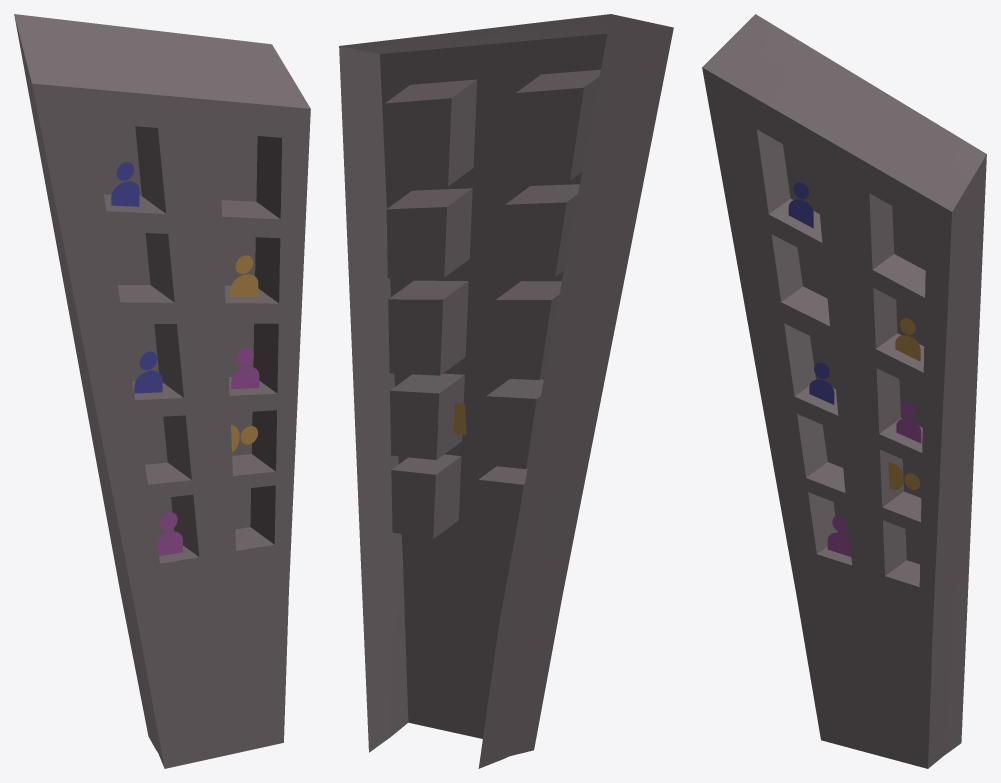
Rendered from Building1.fbx.
The picture shows the model from 3 angles, left to right: view 1: azimuth 30°, elevation 25°; view 2: azimuth 150°, elevation 25°; view 3: azimuth 330°, elevation 25°; orthographic projection. The views are drawn at different scales.
Visible parts, largest first — view 1: Building1, Person6, Person8, Person7, Person5, Person3; view 2: Building1; view 3: Building1, Person6, Person8, Person7, Person5, Person3, Person4.
Part boxes in pixels (bbox=[...]): Building1: bbox=[14, 14, 310, 768]; Person6: bbox=[111, 162, 139, 206]; Person8: bbox=[230, 255, 258, 297]; Person7: bbox=[134, 351, 162, 393]; Person5: bbox=[231, 347, 259, 389]; Person3: bbox=[156, 512, 182, 556]; Building1: bbox=[339, 14, 673, 768]; Building1: bbox=[702, 14, 986, 768]; Person6: bbox=[788, 182, 813, 228]; Person8: bbox=[895, 318, 920, 361]; Person7: bbox=[809, 362, 834, 404]; Person5: bbox=[896, 401, 921, 443]; Person3: bbox=[827, 515, 851, 556]; Person4: bbox=[888, 462, 920, 490].
Bounding box in the file's own units: 8.07 × 20.93 × 1.94.
